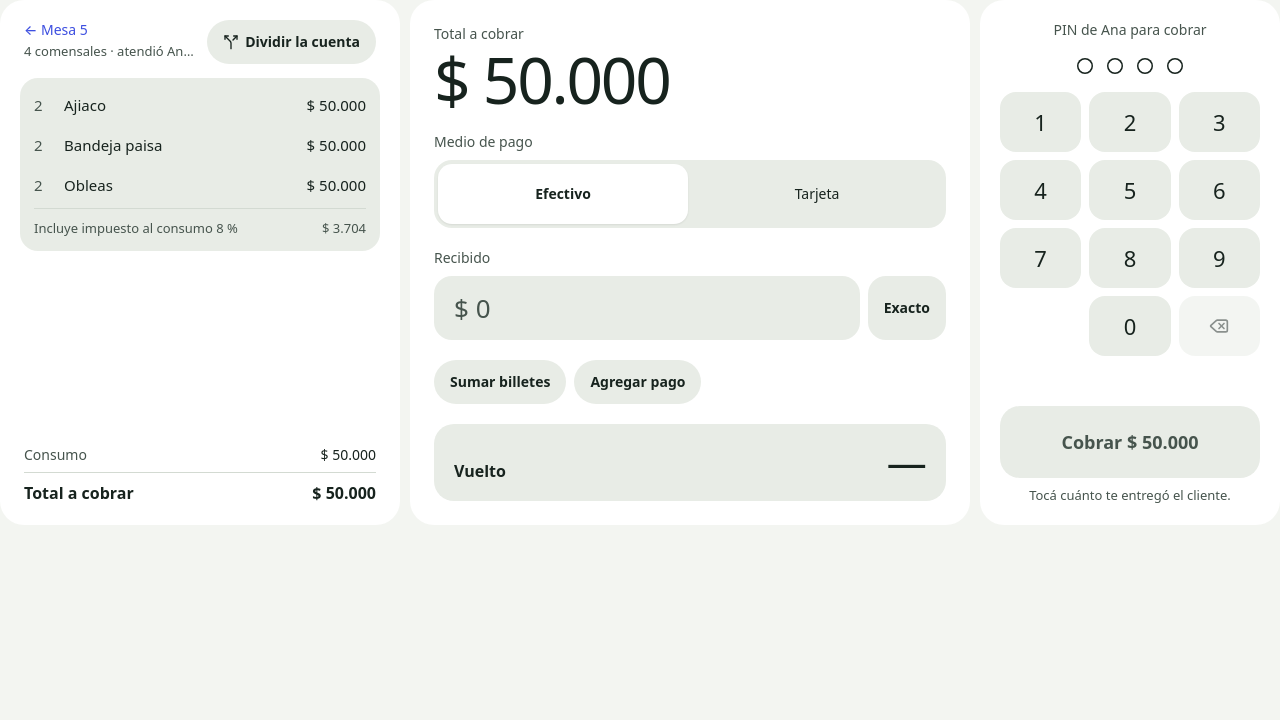
Test case: CheckoutPage — dividida por asiento (handoff PosCobro B) › «Por asiento» arma las partes con el asiento de cada plato y los montos los pone el servidor
Click the button "Dividir la cuenta".
click(292, 42)  # box left=207, top=20, right=376, bottom=64
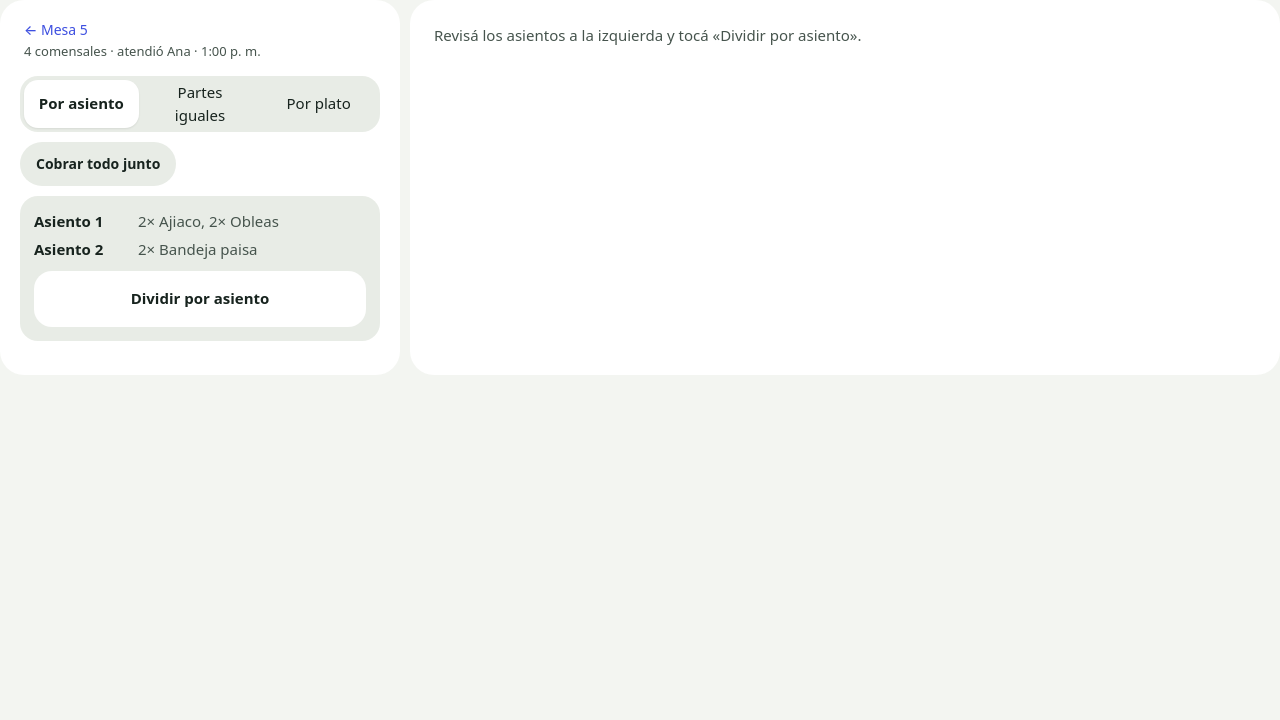
Click the button "Dividir por asiento".
click(200, 298)  # box left=34, top=270, right=366, bottom=326
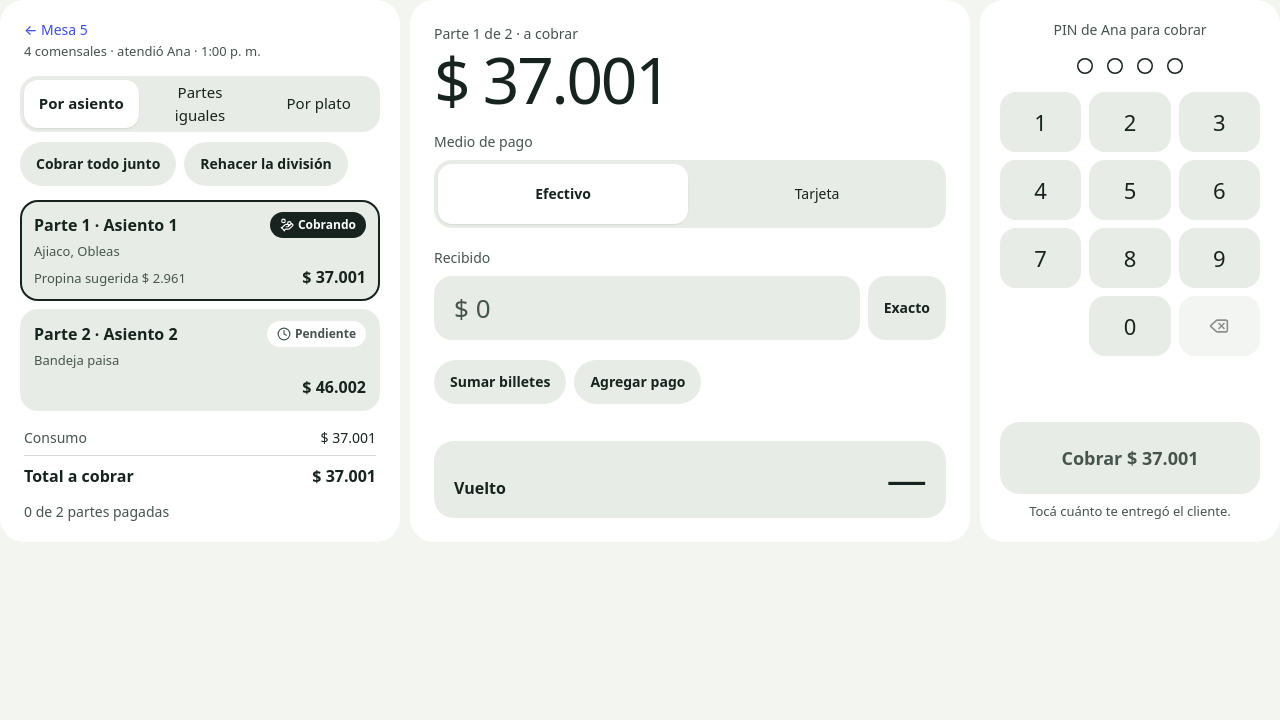
Now the 1st list item reads "Parte 1 · Asiento 1 Cobrando Ajiaco, Obleas Propina sugerida $ 2.961 $ 37.001", box left=20, top=200, right=380, bottom=301
Now the list item "Parte 2 · Asiento 2 Pendiente Bandeja paisa $ 46.002" is shown, box left=20, top=309, right=380, bottom=410
Now the text "Parte 1 de 2 · a cobrar" is shown, box left=434, top=24, right=578, bottom=43
